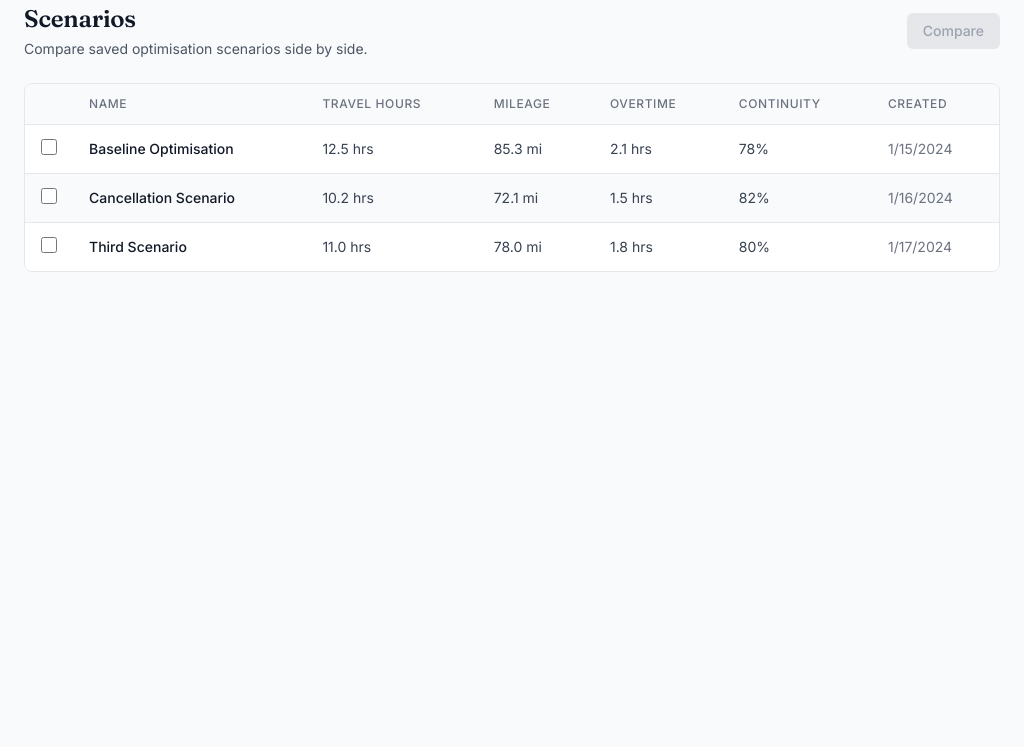
Scenario: ScenariosPage › highlights changed visit assignments in comparison
Expected: the text "Baseline Optimisation" is shown, x1=73 y1=124 x2=306 y2=174
Click the checkbox named "Select Baseline Optimisation for comparison": {"x": 49, "y": 147} x1=41 y1=139 x2=57 y2=155
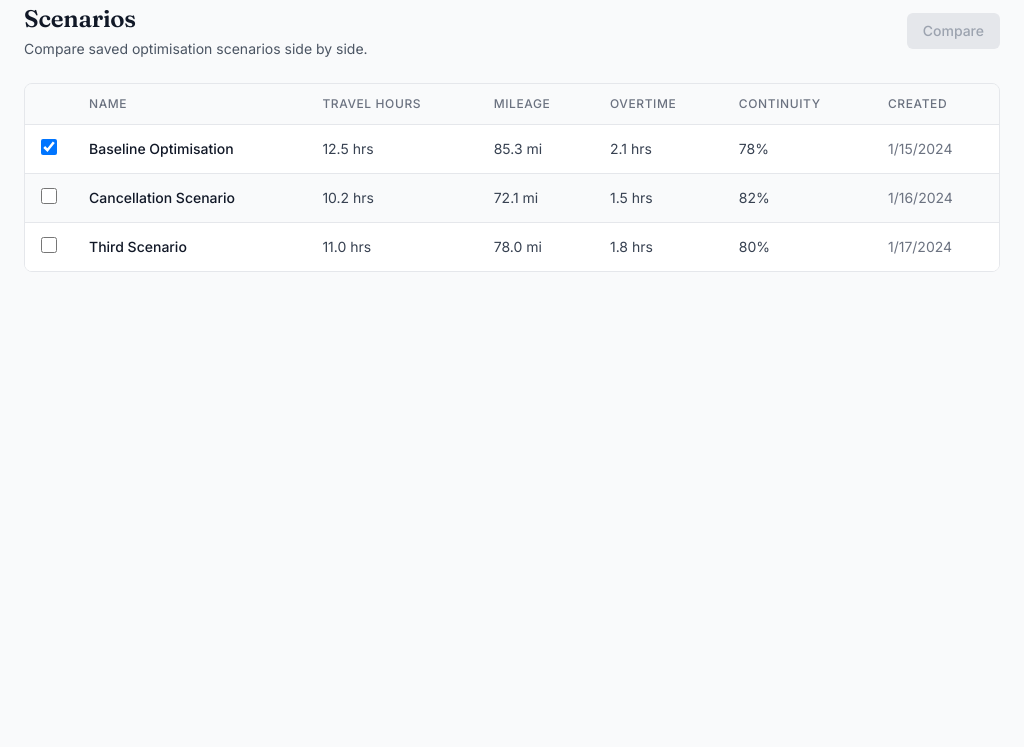
Click the checkbox named "Select Cancellation Scenario for comparison": {"x": 49, "y": 196} x1=41 y1=188 x2=57 y2=204
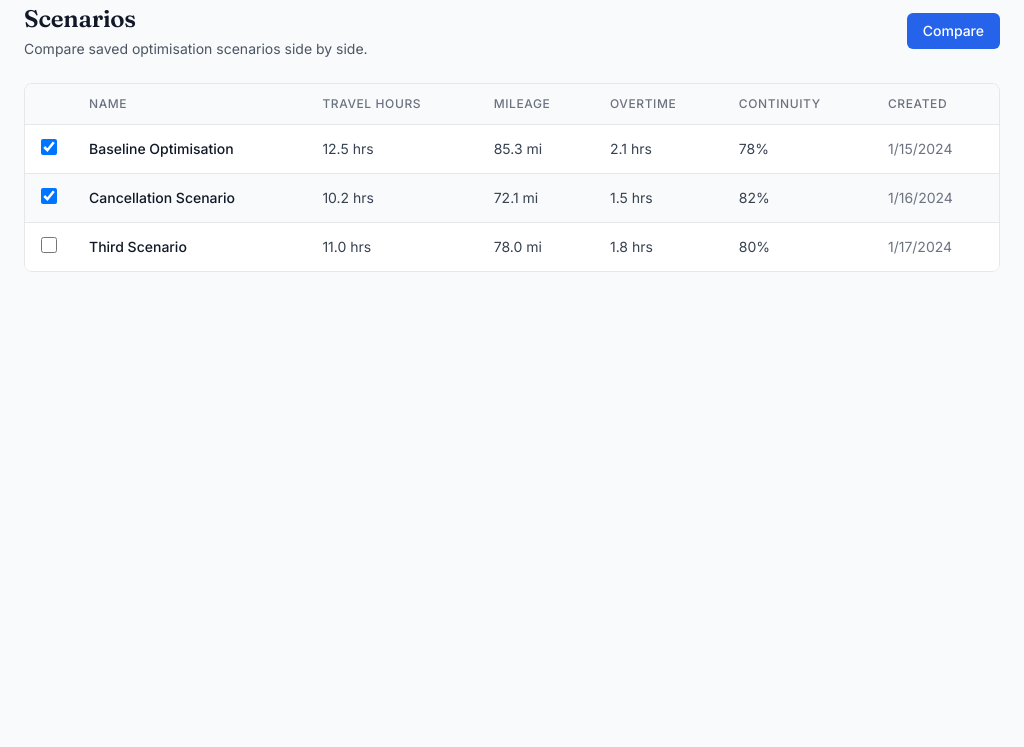
Click the button "Compare": {"x": 953, "y": 31} x1=907 y1=13 x2=1000 y2=49
(page scrolled)
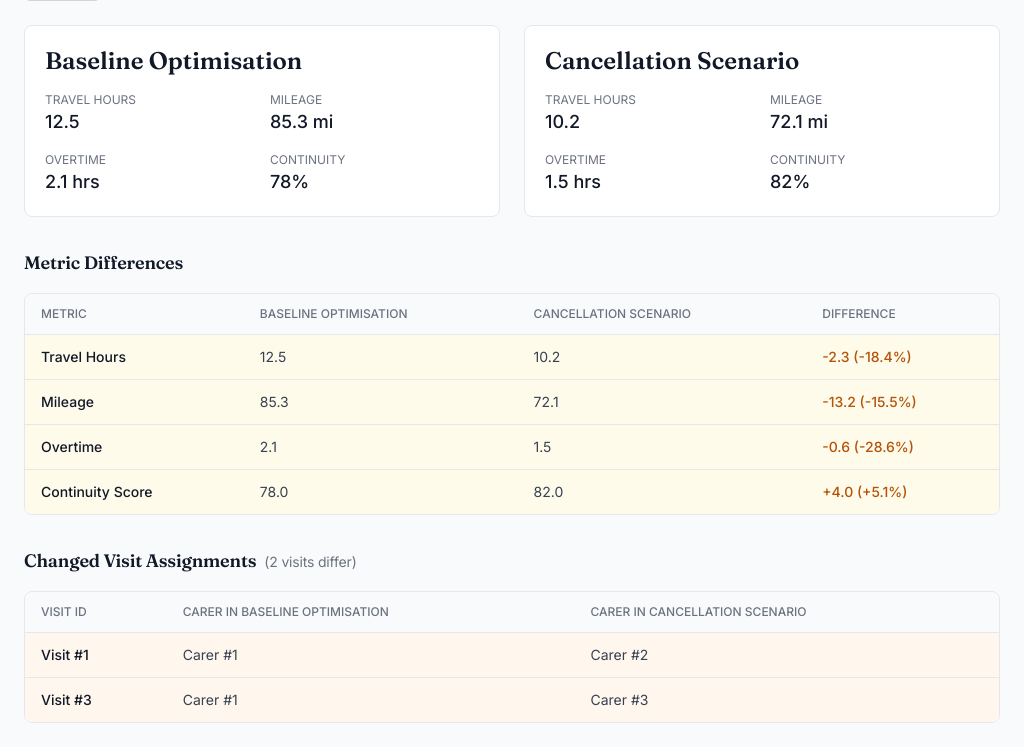
Expected: the heading "Changed Visit Assignments" is shown, x1=24 y1=549 x2=256 y2=572
Expected: the text "Visit #1" is shown, x1=25 y1=632 x2=167 y2=678
Expected: the text "Visit #3" is shown, x1=25 y1=678 x2=167 y2=722
